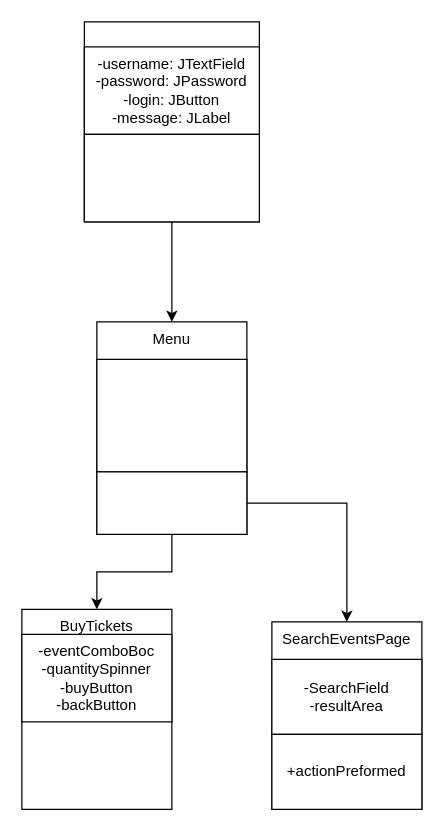
The diagram is 444 pixels wide and 831 high, and some of its shapes have lost their labels. The box of each missing label's shape, as (x1, y1, x2, y2) in pixels:
+actionPreformed(): (83, 133, 259, 222)
-ViewEventsBtn -searchEvengsBtn -buyTicketsBtn viewMyTicketsBtn -exitButton: (96, 358, 247, 472)
LoginPage: (83, 21, 259, 222)
